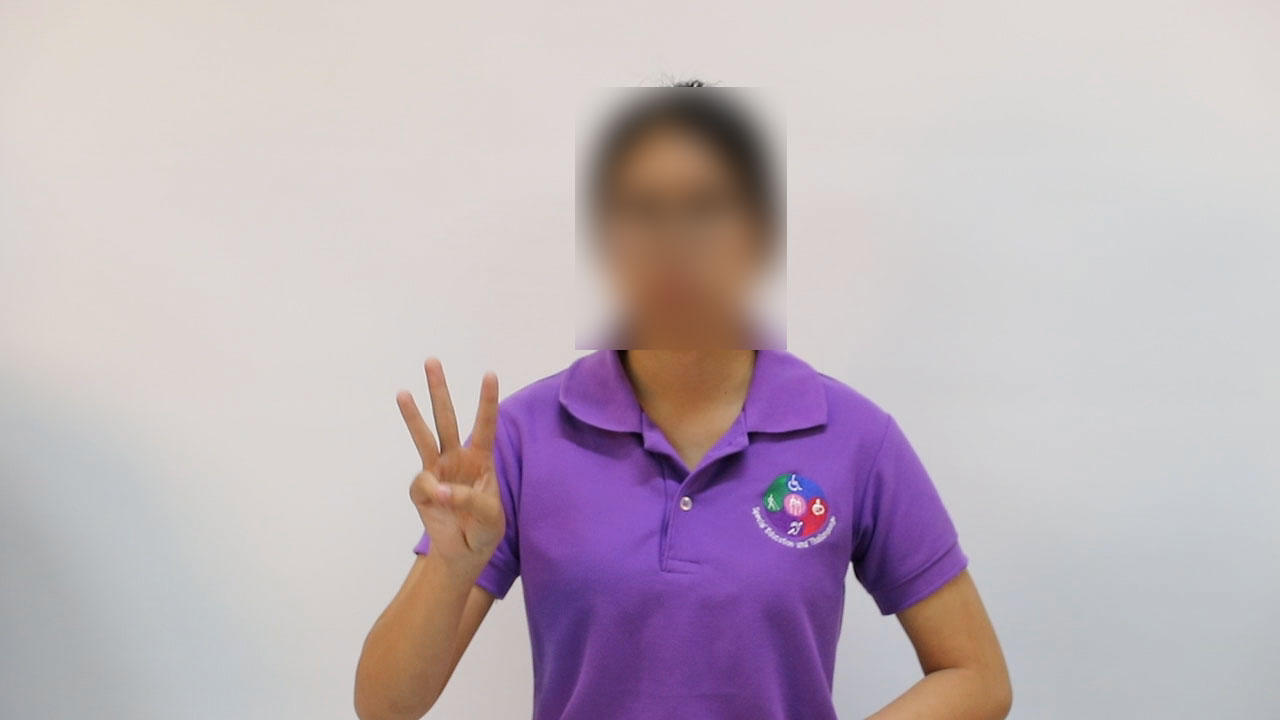wor: (383, 349, 511, 585)
